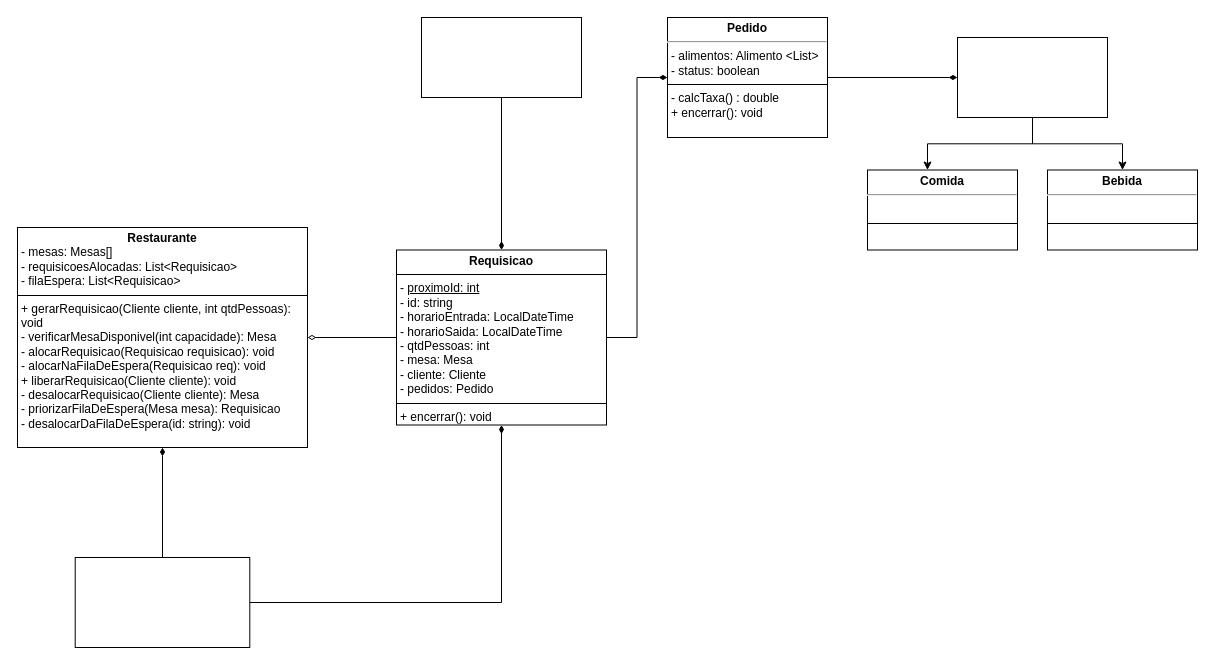
This 1215x665 diagram has some shape labels left out. The box of each missing label's shape, as (x1, y1, x2, y2) in pixels:
Alimento - nome: String - preco: double: (956, 36, 1108, 118)
Cliente - id: string - nome: String: (420, 16, 582, 98)
Mesa - id: string - capacidade: int - ocupada: Boolean: (74, 556, 250, 648)
